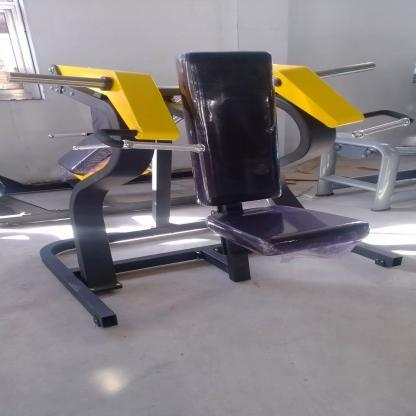shoulder press machine: (11, 52, 408, 331)
